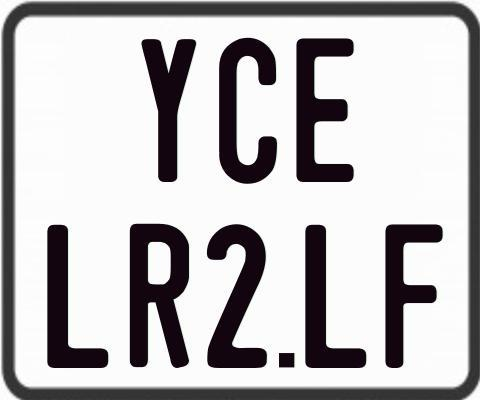2: (206, 221, 272, 369)
C: (218, 37, 281, 183)
E: (294, 36, 353, 180)
F: (383, 221, 445, 371)
L: (302, 224, 368, 373), (45, 225, 110, 373)
R: (128, 223, 188, 371)
Y: (139, 38, 196, 187)
